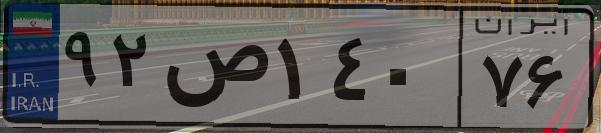0: (385, 28, 445, 110)
1: (270, 28, 330, 110)
2: (110, 28, 158, 98)
4: (330, 28, 385, 110)
6: (525, 38, 570, 115)
7: (475, 38, 525, 113)
9: (57, 26, 110, 100)
ص: (158, 20, 270, 120)
